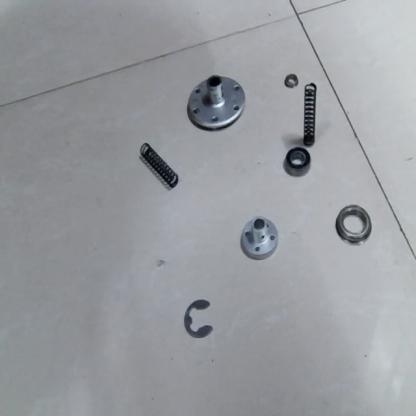FOD: (185, 73, 246, 132), (138, 138, 180, 193), (332, 202, 376, 248), (238, 214, 281, 260), (181, 296, 216, 344), (301, 78, 318, 151), (279, 146, 314, 180), (282, 72, 298, 90)
